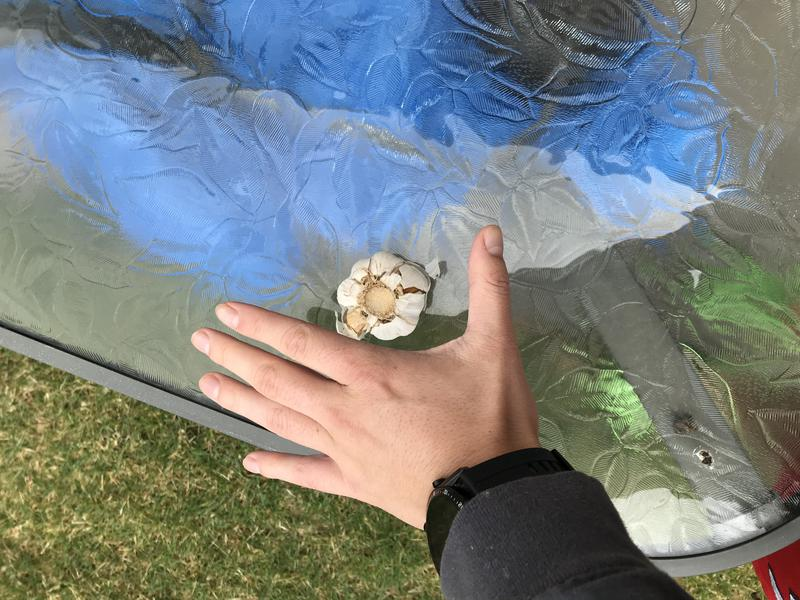garlic: (334, 250, 443, 348)
